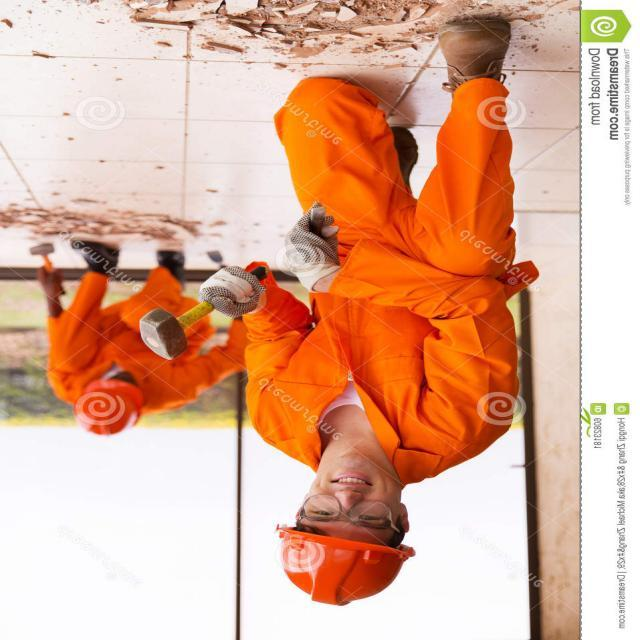safetyhelmet: (271, 446, 421, 598), (71, 354, 160, 444)
